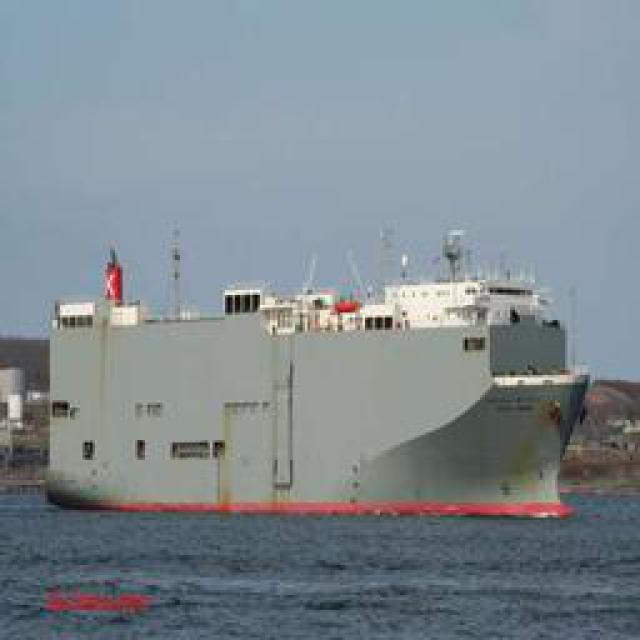Ship: (41, 237, 604, 520)
